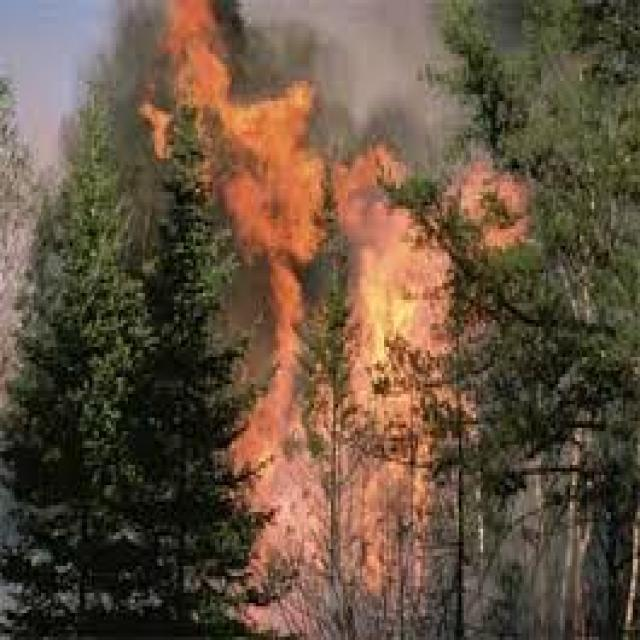Smoke: (254, 445, 638, 640), (0, 0, 171, 407), (218, 0, 522, 168)
